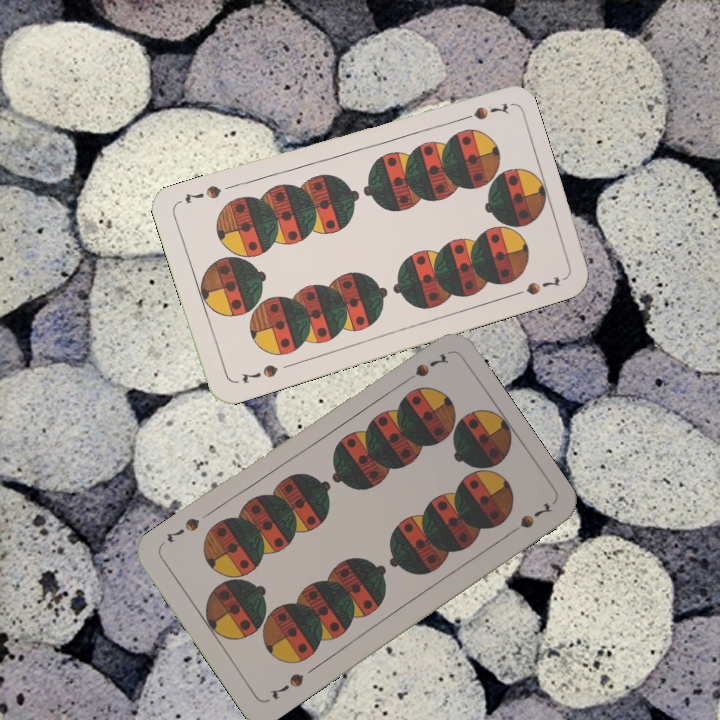S7: (397, 349, 451, 387), (452, 98, 511, 125), (265, 669, 307, 702), (238, 360, 281, 386)
